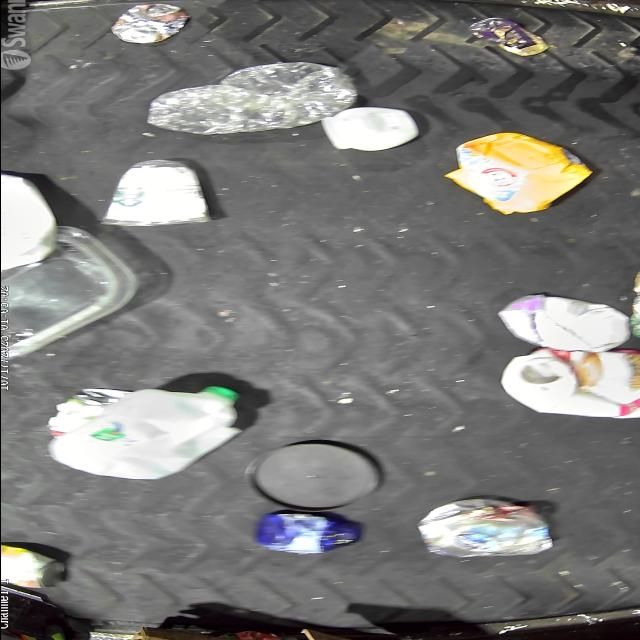can: (108, 2, 188, 44), (0, 543, 68, 588)
milk_jug: (50, 382, 242, 480), (0, 170, 57, 273)
non_white_jug: (442, 132, 588, 214), (498, 350, 640, 419)
plastic_bottle: (144, 63, 358, 135)
